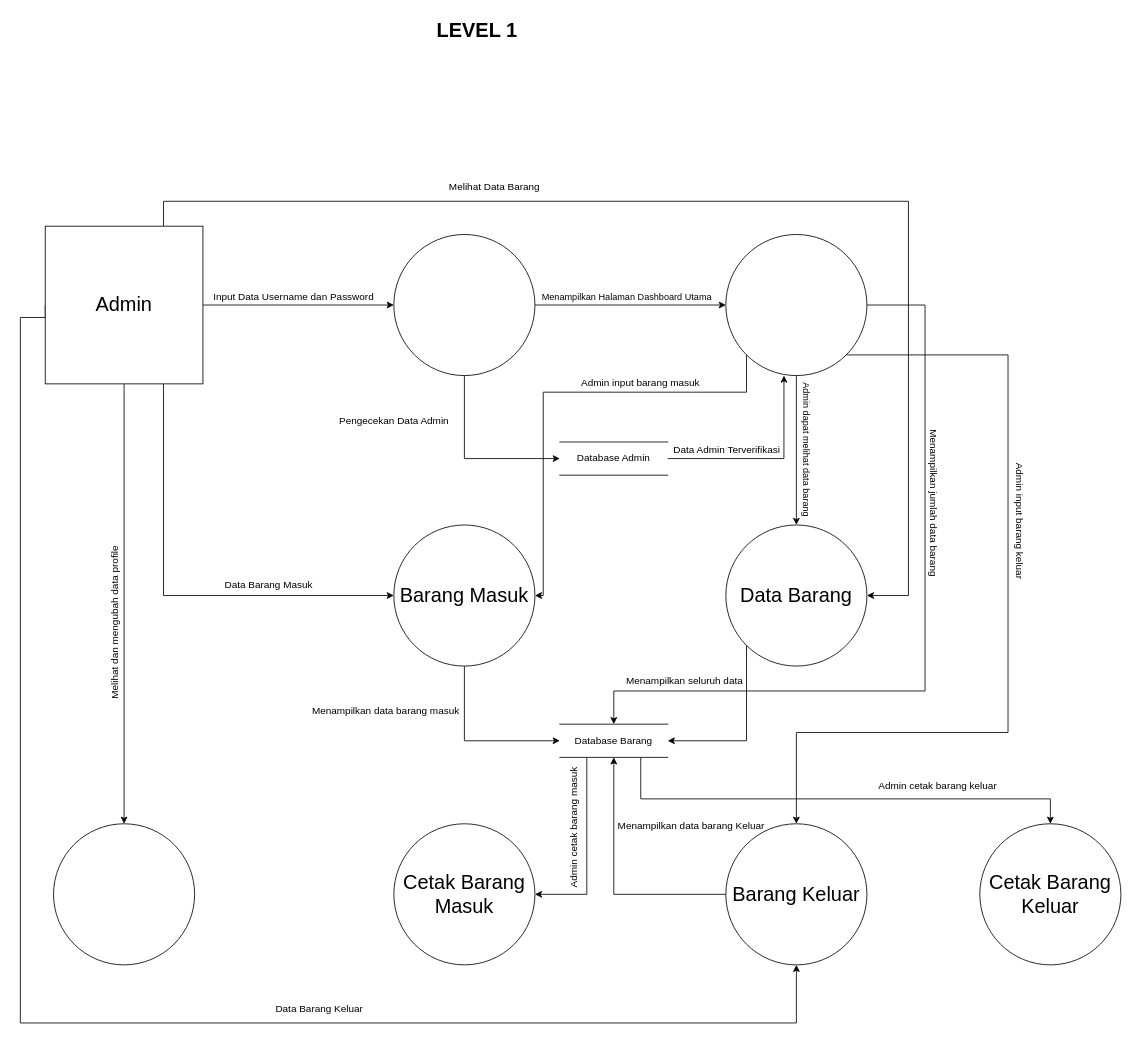
This 1135x1044 diagram has some shape labels left out. Here are the shapes that lost their labels. From the top down, the centre of each, then its label:
At pixel 464 305: "Login".
At pixel 796 305: "Dashboard".
At pixel 124 894: "Profile".
